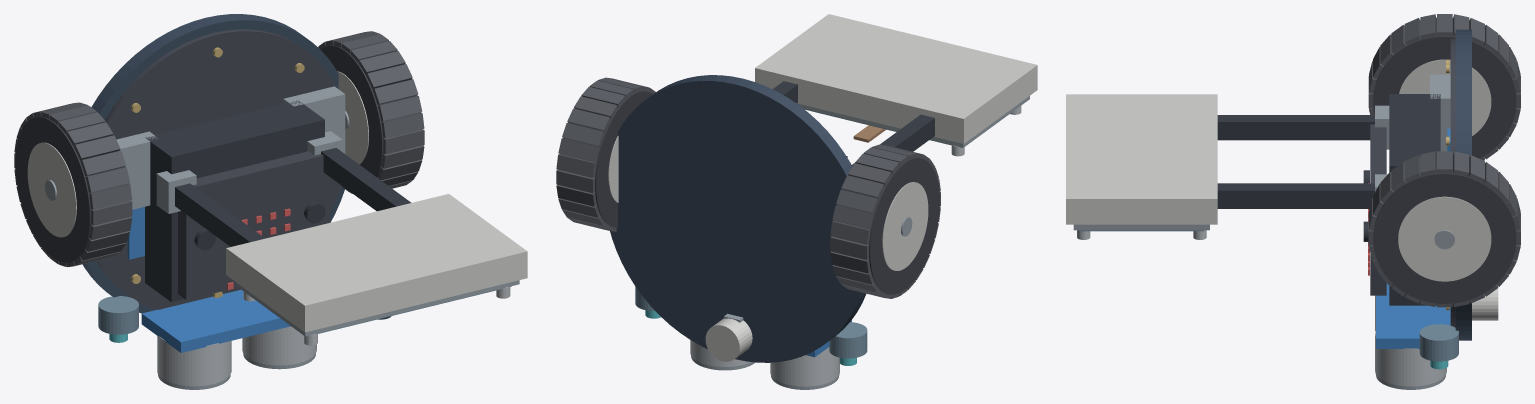
The model's file is Tinybit_Pro_conceptual.glb.
The picture shows the model from 3 angles, left to right: view 1: azimuth 30°, elevation 25°; view 2: azimuth 150°, elevation 25°; view 3: azimuth 270°, elevation 25°; orthographic projection. The views are drawn at different scales.
Visible parts, largest first — view 1: 60_Carcasa_posterior_camara, 02_Placa_circular_superior, 40_Modulo_electronica, 41_Placa_microbit, 01_Chasis_circular_PCB, 30_Placa_ultrasonico_azul, 10_Rueda_caucho_-1, 11_Rin_blanco_-1, 31_Sensor_cilindro_-1, 50_Soporte_vertical_-1, 50_Soporte_vertical_1, 10_Rueda_caucho_1 (+27 smaller); view 2: 01_Chasis_circular_PCB, 60_Carcasa_posterior_camara, 10_Rueda_caucho_-1, 11_Rin_blanco_-1, 10_Rueda_caucho_1, 31_Sensor_cilindro_-1, 20_Rueda_loca_frontal, 50_Soporte_vertical_-1, 22_LED_frontal_-1, 61_Placa_frontal_camara, 13_Taco_neumatico_1_13, 13_Taco_neumatico_-1_13 (+18 smaller); view 3: 60_Carcasa_posterior_camara, 10_Rueda_caucho_1, 11_Rin_blanco_1, 10_Rueda_caucho_-1, 50_Soporte_vertical_1, 50_Soporte_vertical_-1, 40_Modulo_electronica, 30_Placa_ultrasonico_azul, 01_Chasis_circular_PCB, 31_Sensor_cilindro_1, 11_Rin_blanco_-1, 22_LED_frontal_1 (+6 smaller).
Boxes of the visible parts, x1,y1,x2,y2 form: 60_Carcasa_posterior_camara: (226, 194, 527, 332); 02_Placa_circular_superior: (96, 29, 340, 309); 40_Modulo_electronica: (145, 100, 324, 302); 41_Placa_microbit: (178, 151, 329, 299); 01_Chasis_circular_PCB: (82, 14, 344, 313); 30_Placa_ultrasonico_azul: (141, 290, 290, 352); 10_Rueda_caucho_-1: (15, 116, 129, 262); 11_Rin_blanco_-1: (27, 142, 76, 237); 31_Sensor_cilindro_-1: (157, 336, 231, 386); 50_Soporte_vertical_-1: (175, 183, 265, 246); 50_Soporte_vertical_1: (321, 148, 411, 211); 10_Rueda_caucho_1: (320, 45, 421, 177); 01_Chasis_circular_PCB: (610, 75, 866, 362); 60_Carcasa_posterior_camara: (755, 14, 1037, 143); 10_Rueda_caucho_-1: (833, 158, 939, 294); 11_Rin_blanco_-1: (882, 182, 928, 270); 10_Rueda_caucho_1: (559, 91, 652, 227); 31_Sensor_cilindro_-1: (770, 347, 839, 386); 20_Rueda_loca_frontal: (705, 318, 752, 361); 50_Soporte_vertical_-1: (852, 114, 934, 165); 22_LED_frontal_-1: (829, 322, 867, 358); 61_Placa_frontal_camara: (797, 96, 1029, 147); 13_Taco_neumatico_1_13: (556, 154, 596, 177); 13_Taco_neumatico_-1_13: (830, 220, 870, 244); 60_Carcasa_posterior_camara: (1066, 94, 1217, 224); 10_Rueda_caucho_1: (1373, 155, 1516, 303); 11_Rin_blanco_1: (1398, 196, 1491, 281); 10_Rueda_caucho_-1: (1373, 18, 1516, 158); 50_Soporte_vertical_1: (1217, 183, 1374, 208); 50_Soporte_vertical_-1: (1217, 115, 1374, 140); 40_Modulo_electronica: (1389, 94, 1440, 305); 30_Placa_ultrasonico_azul: (1376, 283, 1450, 348); 01_Chasis_circular_PCB: (1455, 29, 1471, 340); 31_Sensor_cilindro_1: (1375, 330, 1446, 386); 11_Rin_blanco_-1: (1399, 59, 1491, 135); 22_LED_frontal_1: (1419, 324, 1458, 361).
Size of the model in its own units: 2.78 by 2.54 by 3.36.
